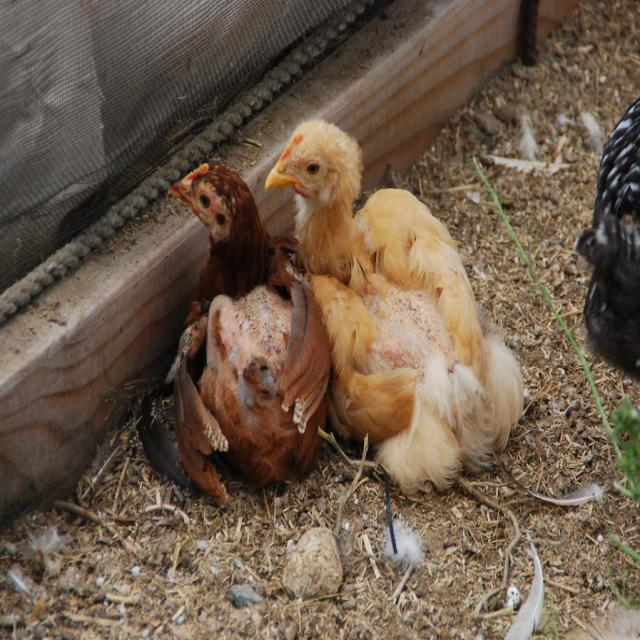Unhealthy: (267, 108, 532, 491), (136, 160, 343, 505)
